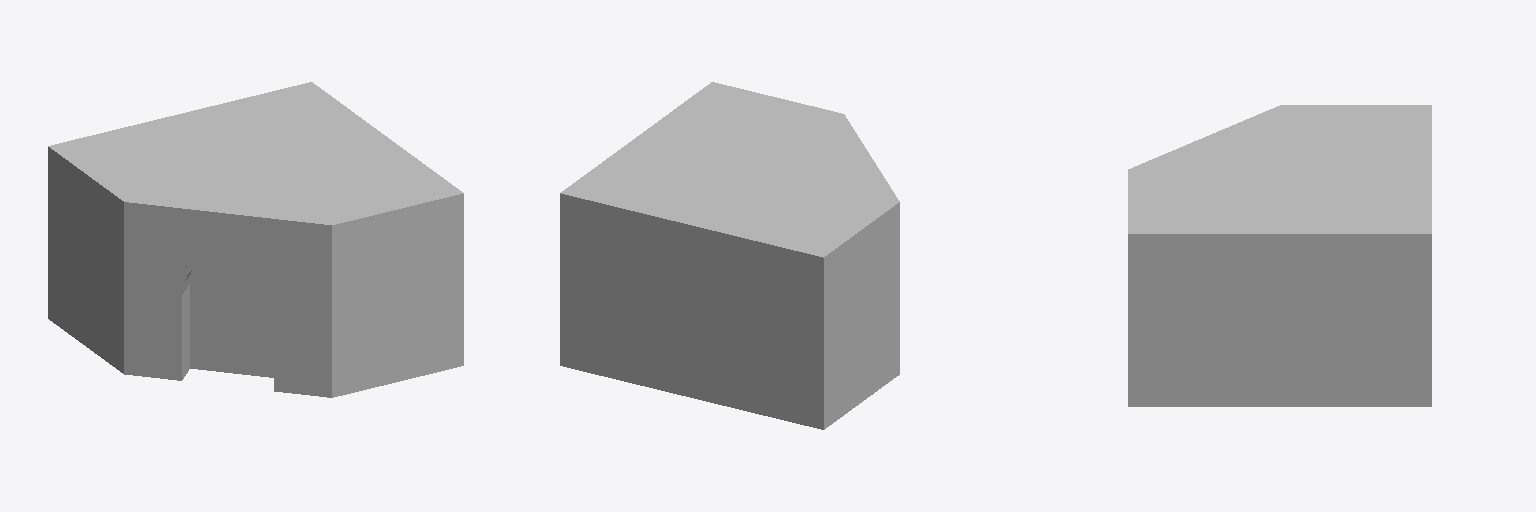
3 renders of one model, left to right at view 1: azimuth 30°, elevation 25°; view 2: azimuth 150°, elevation 25°; view 3: azimuth 270°, elevation 25°, orthographic.
Parts seen in each view (by area): view 1: G-__556068_G-__556068_Brick, G-__556068_G-__556068_Glass; view 2: G-__556068_G-__556068_Brick; view 3: G-__556068_G-__556068_Brick.
Part boxes in pixels (x1,y1,x2,y2): G-__556068_G-__556068_Brick: (48,82,463,397); G-__556068_G-__556068_Glass: (190,258,273,377); G-__556068_G-__556068_Brick: (560,82,899,429); G-__556068_G-__556068_Brick: (1128,105,1431,406).
Size of the model in its own units: 1 by 0.625 by 1.